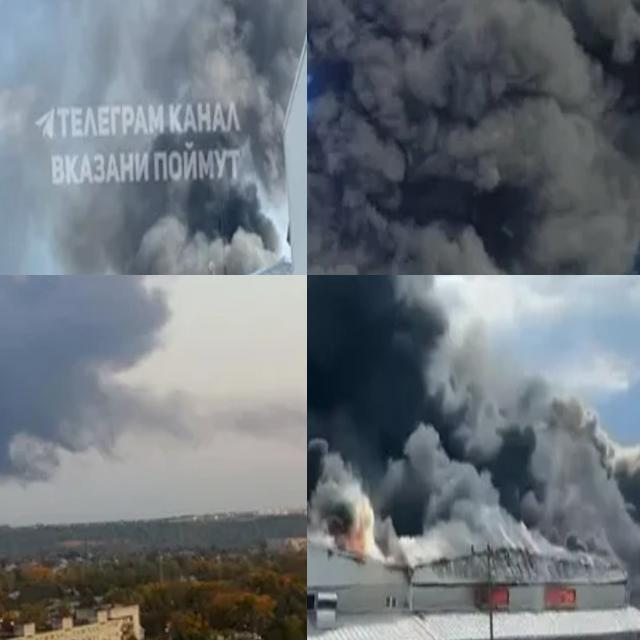smoke: (307, 0, 640, 275), (307, 275, 640, 549), (21, 0, 307, 275), (0, 275, 227, 470)
